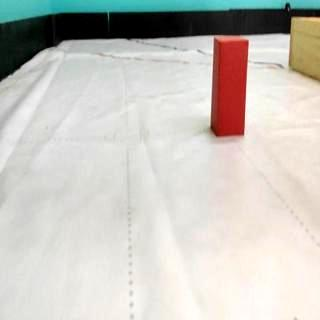redbox: (210, 37, 250, 136)
